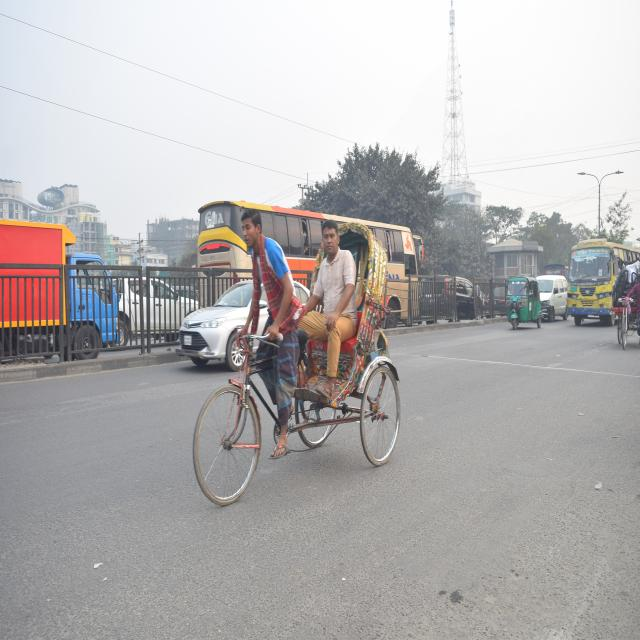bus: (194, 197, 426, 323), (565, 231, 640, 334)
car: (182, 268, 314, 383), (428, 266, 488, 326), (537, 268, 567, 326)
pickup-van: (0, 214, 124, 374), (112, 269, 194, 356)
